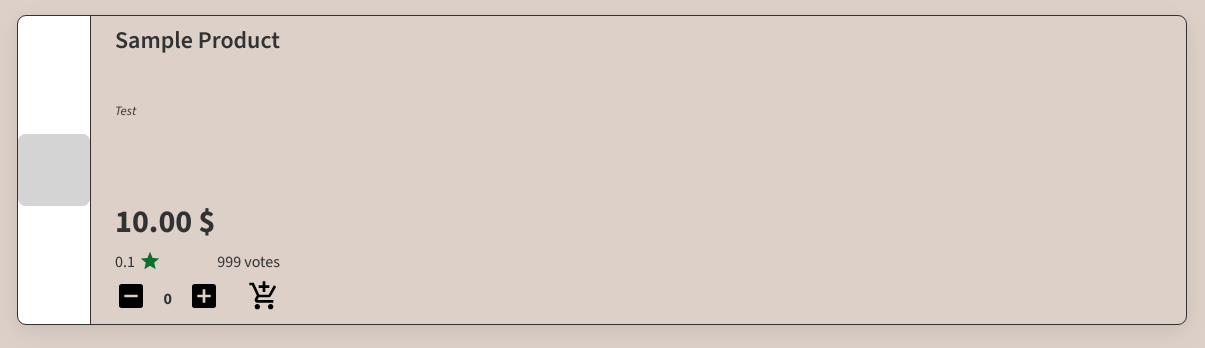
Test: ProductCard component › resets quantity to 0 after clicking the Add To Cart button
In the number field: [168, 298] box x1=155 y1=280 x2=180 y2=316, type "55"
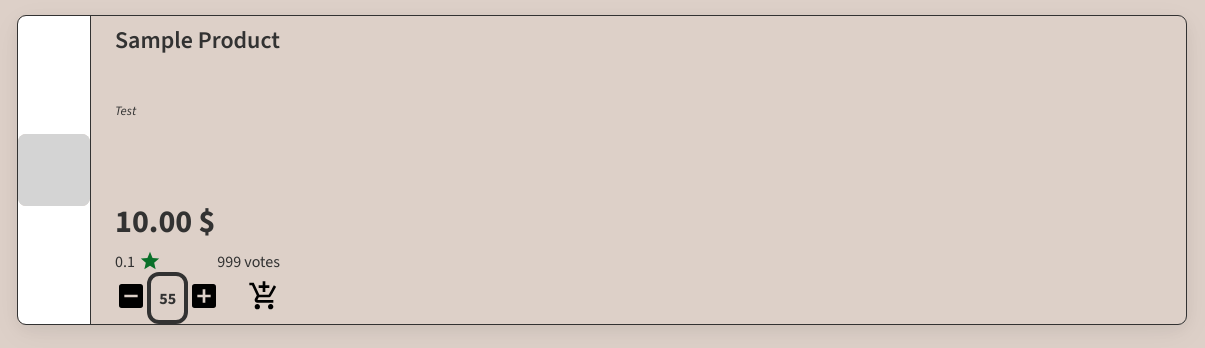
Click the 3rd button with alt text "Add To Cart Icon": [264, 298] box x1=248 y1=280 x2=280 y2=316
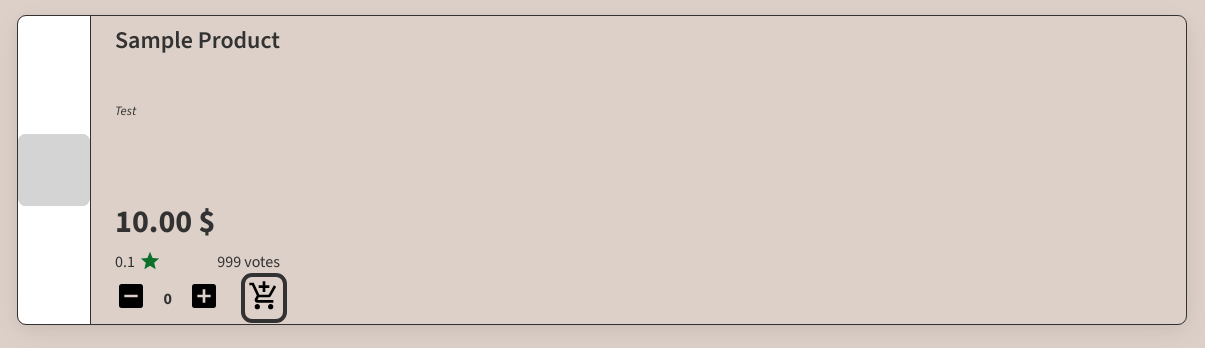
Expected: the number field holds "0", x1=155 y1=280 x2=180 y2=316
